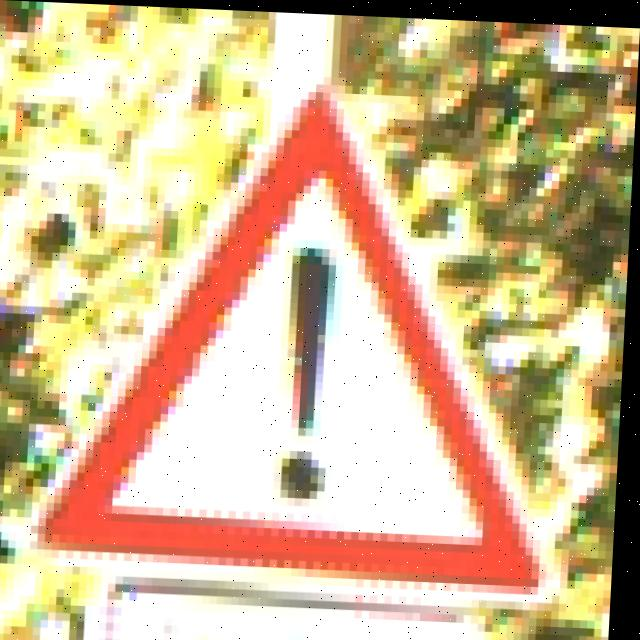warning: (44, 87, 584, 598)
